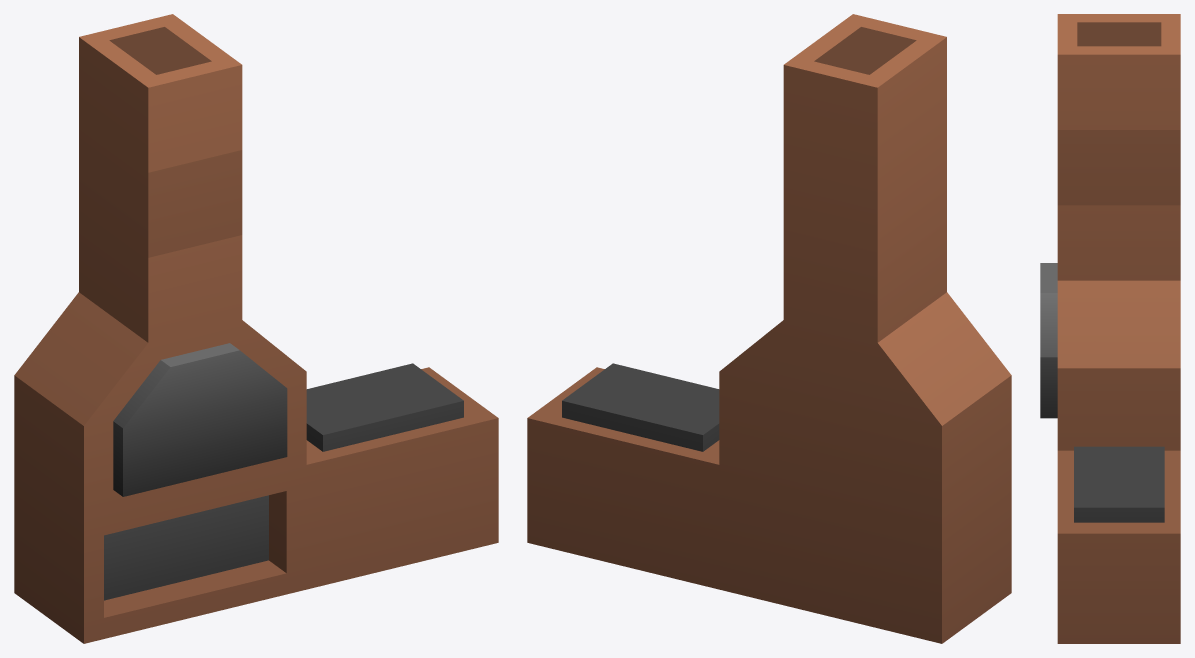
The model's file is bake.fbx.
The picture shows the model from 3 angles, left to right: view 1: azimuth 30°, elevation 25°; view 2: azimuth 150°, elevation 25°; view 3: azimuth 270°, elevation 25°; orthographic projection. The views are drawn at different scales.
Visible parts, largest first — view 1: bake; view 2: bake; view 3: bake.
Boxes of the visible parts, x1,y1,x2,y2 form: bake: (14,14,498,643); bake: (527,14,1011,643); bake: (1040,14,1180,643).
Size of the model in its own units: 298 by 371 by 98.65.
Materials: 1 (1 with a texture image).
